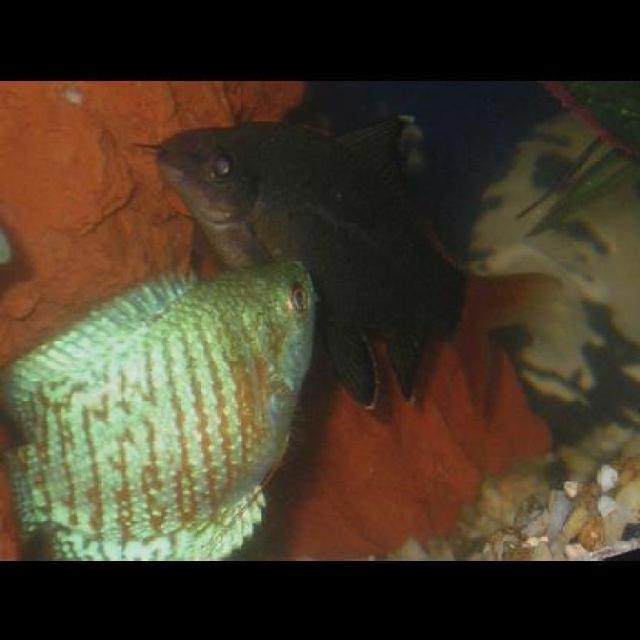Gourami: (2, 259, 316, 559)
